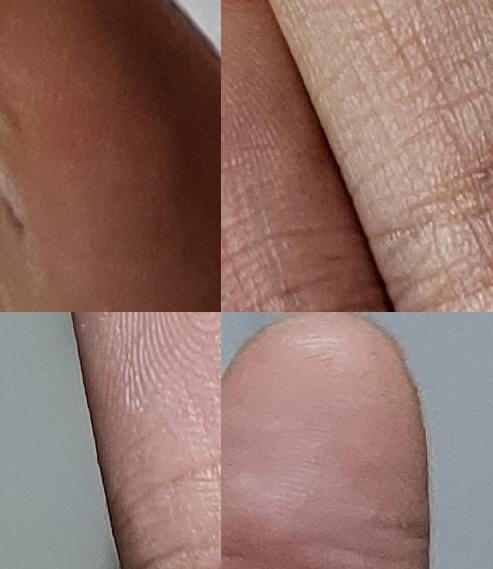Fingerprints: (221, 312, 430, 568), (221, 0, 390, 312), (70, 312, 221, 569)
